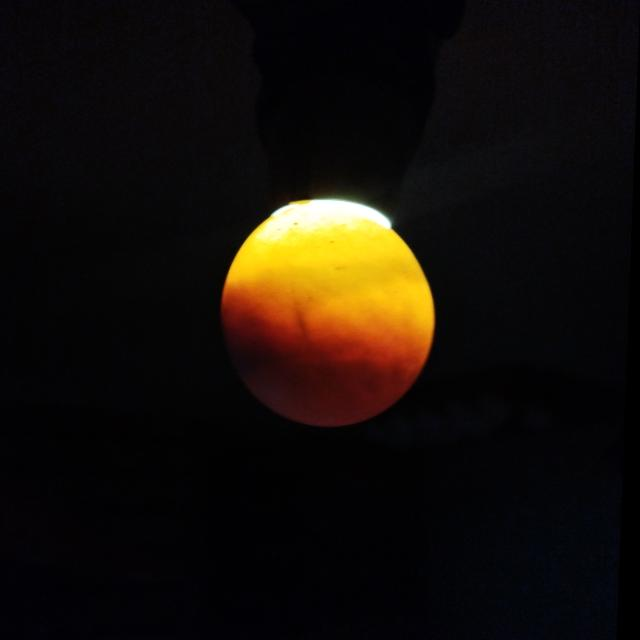Area Infectada: (221, 326, 359, 415)
